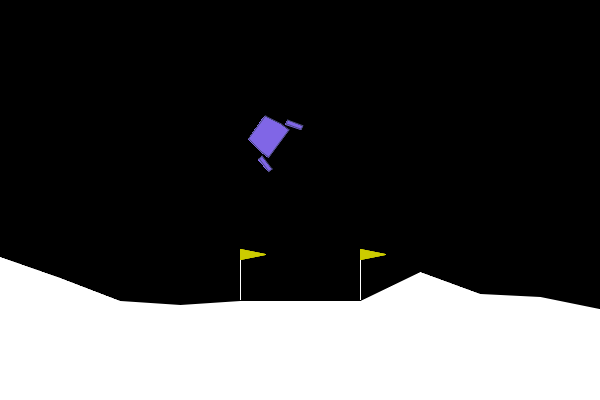lander: (237, 102, 305, 174)
